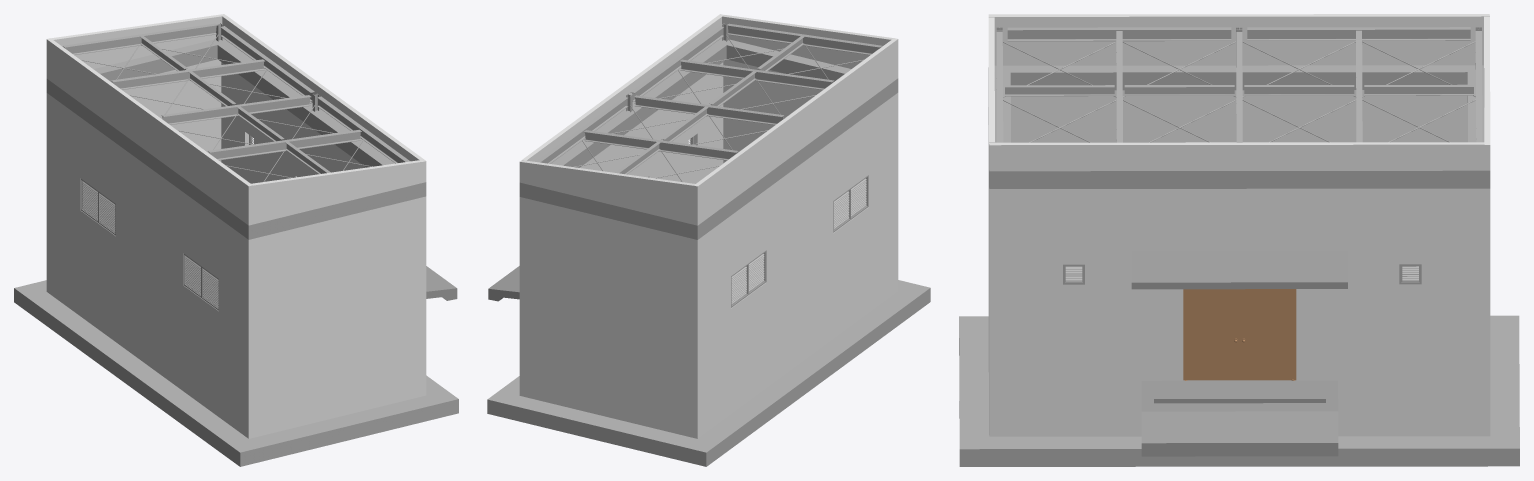
The model's file is songsan_04.glb.
3 views of the same model, side by side, from view 1: azimuth 30°, elevation 25°; view 2: azimuth 150°, elevation 25°; view 3: azimuth 270°, elevation 25° (orthographic). The views are drawn at different scales.
Visible parts, largest first — view 1: product-8134622d-a2f9-4d75-bc39-c9b47dfa6384-body, product-8134622d-a2f9-4d75-bc39-c9b47dfa6386-body, product-8134622d-a2f9-4d75-bc39-c9b47dfa6074-body, product-8134622d-a2f9-4d75-bc39-c9b47dfa4425-body, product-8134622d-a2f9-4d75-bc39-c9b47dfa61ab-body, product-8134622d-a2f9-4d75-bc39-c9b47dfa63e6-body, product-8134622d-a2f9-4d75-bc39-c9b47dfa63e0-body, product-8134622d-a2f9-4d75-bc39-c9b47dfa47e5-body, product-8134622d-a2f9-4d75-bc39-c9b47dfa6388-body, product-8134622d-a2f9-4d75-bc39-c9b47dfa638a-body, product-8134622d-a2f9-4d75-bc39-c9b47dfa786a-body, product-8134622d-a2f9-4d75-bc39-c9b47dfa79f4-body (+17 smaller); view 2: product-8134622d-a2f9-4d75-bc39-c9b47dfa6384-body, product-8134622d-a2f9-4d75-bc39-c9b47dfa638a-body, product-8134622d-a2f9-4d75-bc39-c9b47dfa6074-body, product-8134622d-a2f9-4d75-bc39-c9b47dfa4425-body, product-8134622d-a2f9-4d75-bc39-c9b47dfa63e6-body, product-8134622d-a2f9-4d75-bc39-c9b47dfa60d7-body, product-8134622d-a2f9-4d75-bc39-c9b47dfa44b3-body, product-8134622d-a2f9-4d75-bc39-c9b47dfa63e4-body, product-8134622d-a2f9-4d75-bc39-c9b47dfa7c40-body, product-8134622d-a2f9-4d75-bc39-c9b47dfa6386-body, product-8134622d-a2f9-4d75-bc39-c9b47dfa786a-body, product-8134622d-a2f9-4d75-bc39-c9b47dfa79f4-body (+18 smaller); view 3: product-8134622d-a2f9-4d75-bc39-c9b47dfa6388-body, product-8134622d-a2f9-4d75-bc39-c9b47dfa7c40-body, product-8134622d-a2f9-4d75-bc39-c9b47dfa6384-body, product-8134622d-a2f9-4d75-bc39-c9b47dfa4425-body, product-8134622d-a2f9-4d75-bc39-c9b47dfa6358-body, product-8134622d-a2f9-4d75-bc39-c9b47dfa4534-body, product-8134622d-a2f9-4d75-bc39-c9b47dfa4723-body, product-8134622d-a2f9-4d75-bc39-c9b47dfa2226-body, product-8134622d-a2f9-4d75-bc39-c9b47dfa63ea-body, product-8134622d-a2f9-4d75-bc39-c9b47dfa786a-body, product-8134622d-a2f9-4d75-bc39-c9b47dfa79f4-body, product-8134622d-a2f9-4d75-bc39-c9b47dfa3f04-body (+23 smaller).
Part boxes in pixels (x1,y1,x2,y2): product-8134622d-a2f9-4d75-bc39-c9b47dfa6384-body: [46, 93, 244, 390]; product-8134622d-a2f9-4d75-bc39-c9b47dfa6386-body: [244, 196, 426, 393]; product-8134622d-a2f9-4d75-bc39-c9b47dfa6074-body: [46, 247, 244, 435]; product-8134622d-a2f9-4d75-bc39-c9b47dfa4425-body: [46, 38, 252, 225]; product-8134622d-a2f9-4d75-bc39-c9b47dfa61ab-body: [244, 350, 426, 438]; product-8134622d-a2f9-4d75-bc39-c9b47dfa63e6-body: [14, 280, 232, 446]; product-8134622d-a2f9-4d75-bc39-c9b47dfa63e0-body: [212, 379, 458, 466]; product-8134622d-a2f9-4d75-bc39-c9b47dfa47e5-body: [251, 160, 422, 224]; product-8134622d-a2f9-4d75-bc39-c9b47dfa6388-body: [221, 62, 297, 183]; product-8134622d-a2f9-4d75-bc39-c9b47dfa638a-body: [122, 59, 221, 161]; product-8134622d-a2f9-4d75-bc39-c9b47dfa786a-body: [211, 38, 426, 199]; product-8134622d-a2f9-4d75-bc39-c9b47dfa79f4-body: [46, 79, 263, 239]; product-8134622d-a2f9-4d75-bc39-c9b47dfa6384-body: [691, 96, 894, 393]; product-8134622d-a2f9-4d75-bc39-c9b47dfa638a-body: [519, 197, 690, 392]; product-8134622d-a2f9-4d75-bc39-c9b47dfa6074-body: [691, 249, 894, 438]; product-8134622d-a2f9-4d75-bc39-c9b47dfa4425-body: [693, 38, 898, 225]; product-8134622d-a2f9-4d75-bc39-c9b47dfa63e6-body: [658, 303, 902, 466]; product-8134622d-a2f9-4d75-bc39-c9b47dfa60d7-body: [519, 351, 690, 437]; product-8134622d-a2f9-4d75-bc39-c9b47dfa44b3-body: [519, 160, 694, 224]; product-8134622d-a2f9-4d75-bc39-c9b47dfa63e4-body: [487, 379, 669, 455]; product-8134622d-a2f9-4d75-bc39-c9b47dfa7c40-body: [648, 62, 723, 183]; product-8134622d-a2f9-4d75-bc39-c9b47dfa6386-body: [723, 60, 898, 248]; product-8134622d-a2f9-4d75-bc39-c9b47dfa786a-body: [519, 38, 732, 200]; product-8134622d-a2f9-4d75-bc39-c9b47dfa79f4-body: [682, 78, 898, 239]; product-8134622d-a2f9-4d75-bc39-c9b47dfa6388-body: [1296, 188, 1480, 380]; product-8134622d-a2f9-4d75-bc39-c9b47dfa7c40-body: [999, 189, 1183, 380]; product-8134622d-a2f9-4d75-bc39-c9b47dfa6384-body: [1011, 90, 1467, 142]; product-8134622d-a2f9-4d75-bc39-c9b47dfa4425-body: [988, 14, 1489, 65]; product-8134622d-a2f9-4d75-bc39-c9b47dfa6358-body: [999, 380, 1480, 436]; product-8134622d-a2f9-4d75-bc39-c9b47dfa4534-body: [1141, 380, 1338, 456]; product-8134622d-a2f9-4d75-bc39-c9b47dfa4723-body: [989, 142, 1484, 171]; product-8134622d-a2f9-4d75-bc39-c9b47dfa2226-body: [1183, 289, 1296, 380]; product-8134622d-a2f9-4d75-bc39-c9b47dfa63ea-body: [1028, 436, 1450, 466]; product-8134622d-a2f9-4d75-bc39-c9b47dfa786a-body: [989, 170, 1490, 188]; product-8134622d-a2f9-4d75-bc39-c9b47dfa79f4-body: [994, 65, 1483, 90]; product-8134622d-a2f9-4d75-bc39-c9b47dfa3f04-body: [1131, 251, 1347, 289].
Bounding box in the file's own units: 8.52 × 7.46 × 11.41.
